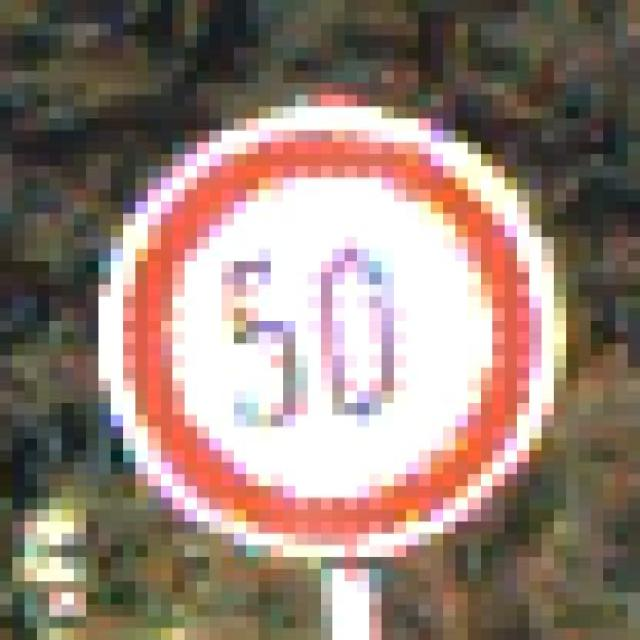Speed limit 50: (117, 101, 548, 561)
